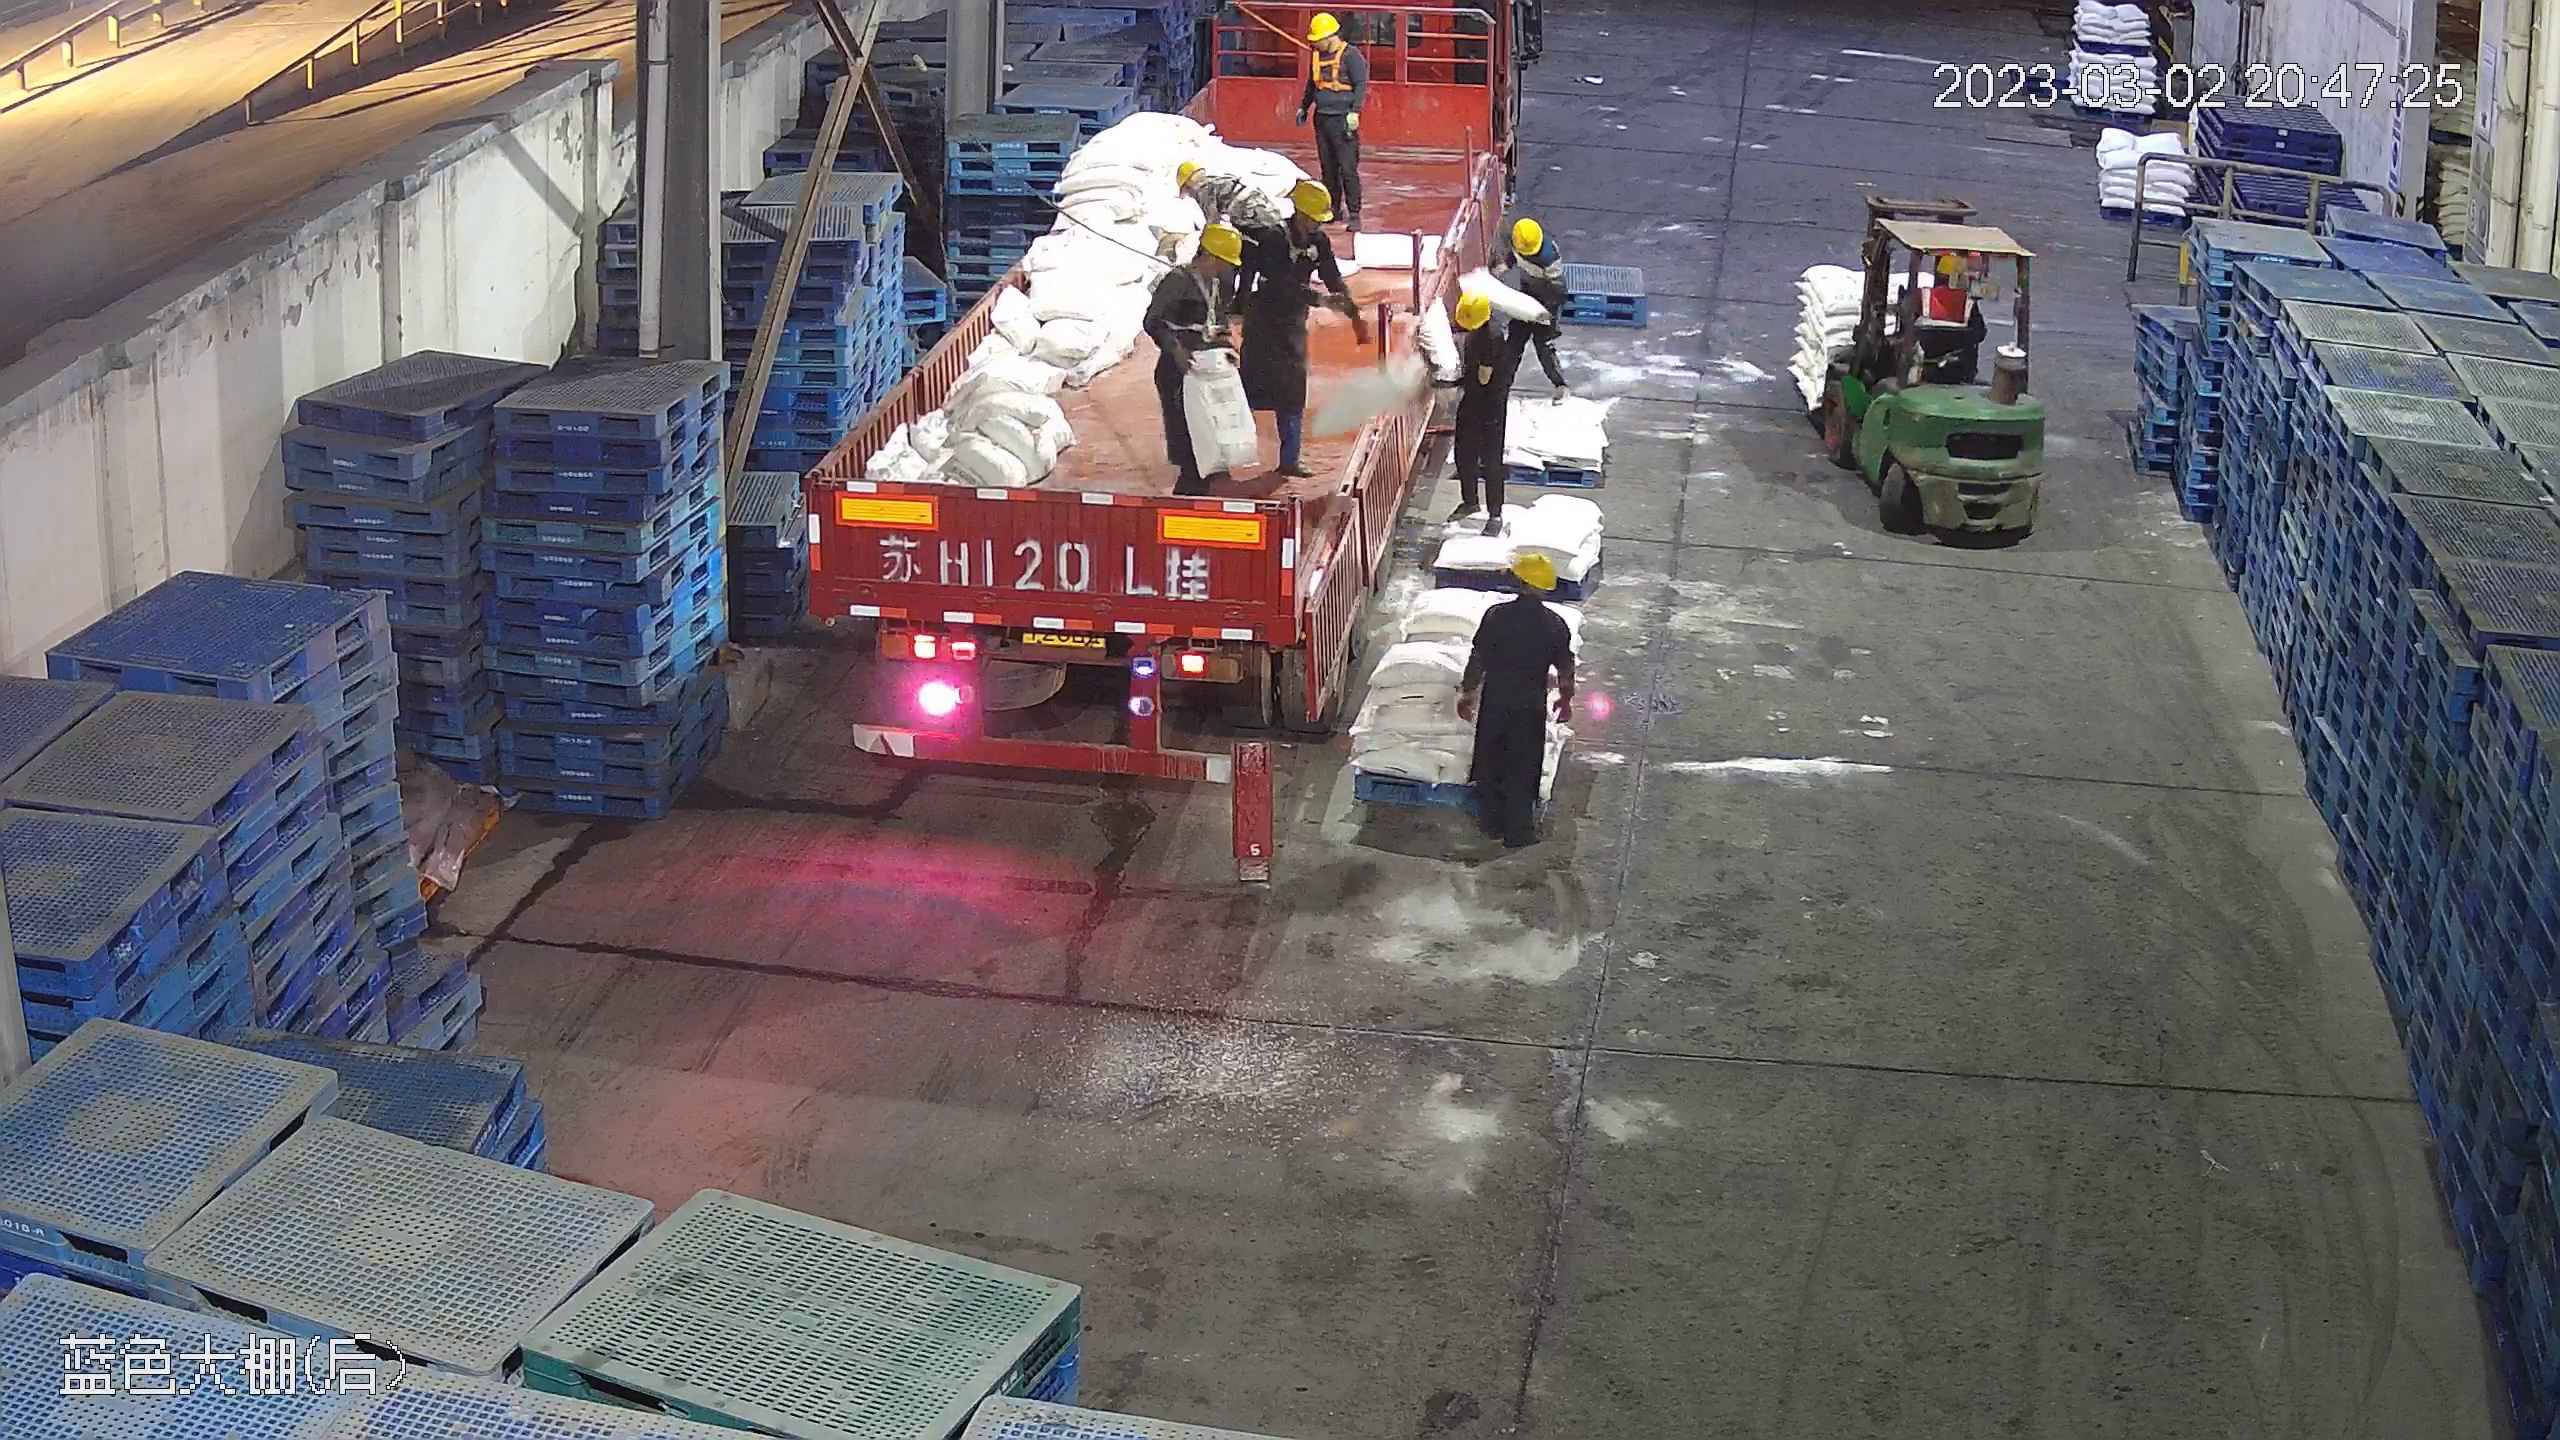belt: (1162, 269, 1223, 343), (1305, 37, 1357, 96), (1212, 168, 1263, 219), (1278, 220, 1323, 265)
head: (1472, 548, 1574, 651), (1258, 179, 1343, 274), (1150, 223, 1241, 309), (1441, 286, 1517, 368), (1178, 158, 1255, 219), (1299, 9, 1364, 76), (1496, 216, 1558, 283), (1918, 253, 1973, 313)
helmet: (1197, 219, 1244, 270), (1505, 547, 1557, 588), (1285, 177, 1331, 221), (1451, 283, 1491, 328), (1510, 216, 1543, 251), (1306, 10, 1341, 40), (1173, 156, 1203, 189)
people: (1228, 175, 1365, 475), (1456, 543, 1580, 851), (1139, 212, 1246, 497), (1439, 282, 1521, 538), (1293, 7, 1374, 244), (1485, 214, 1576, 400)
truck: (806, 12, 1499, 779)
